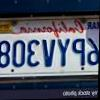License_Plate: (0, 11, 100, 79)
